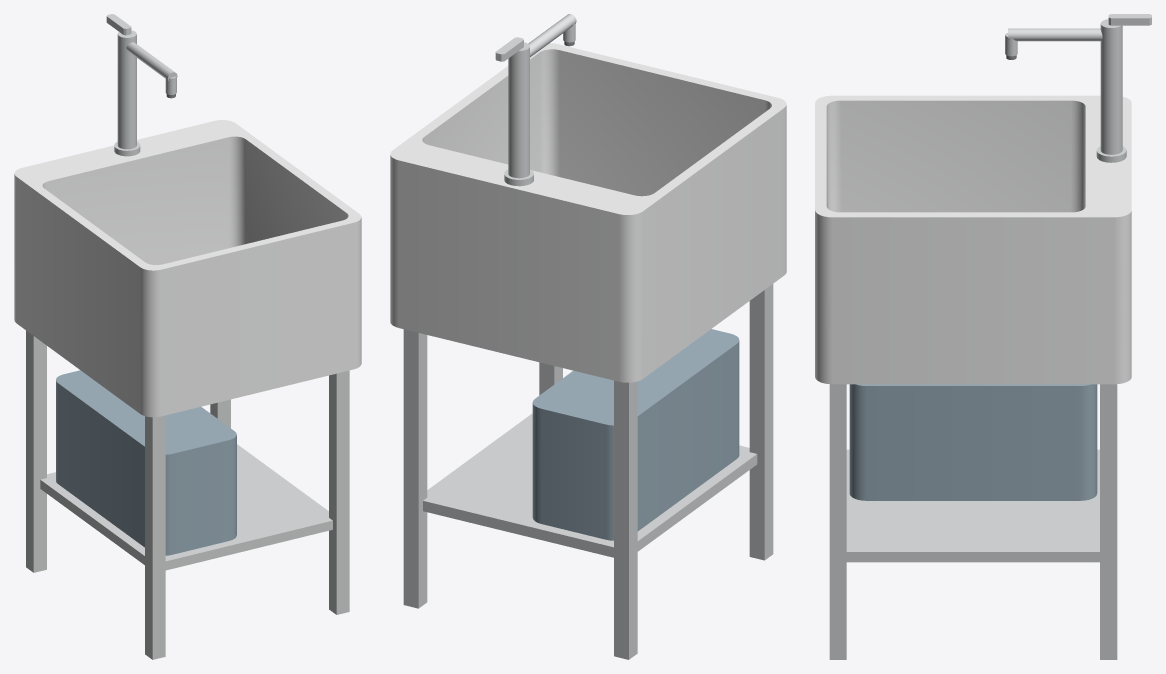
The picture shows the model from 3 angles, left to right: view 1: azimuth 30°, elevation 25°; view 2: azimuth 150°, elevation 25°; view 3: azimuth 270°, elevation 25°; orthographic projection. The views are drawn at different scales.
Visible parts, largest first — view 1: Chậu giặt Rộng=500; Sâu=550; view 2: Chậu giặt Rộng=500; Sâu=550; view 3: Chậu giặt Rộng=500; Sâu=550.
Part boxes in pixels (<box>): Chậu giặt Rộng=500; Sâu=550: <box>14,14,361,659</box>; Chậu giặt Rộng=500; Sâu=550: <box>390,14,786,659</box>; Chậu giặt Rộng=500; Sâu=550: <box>815,14,1151,659</box>.
Bounding box in the file's own units: 0.5 × 1.13 × 0.585.
